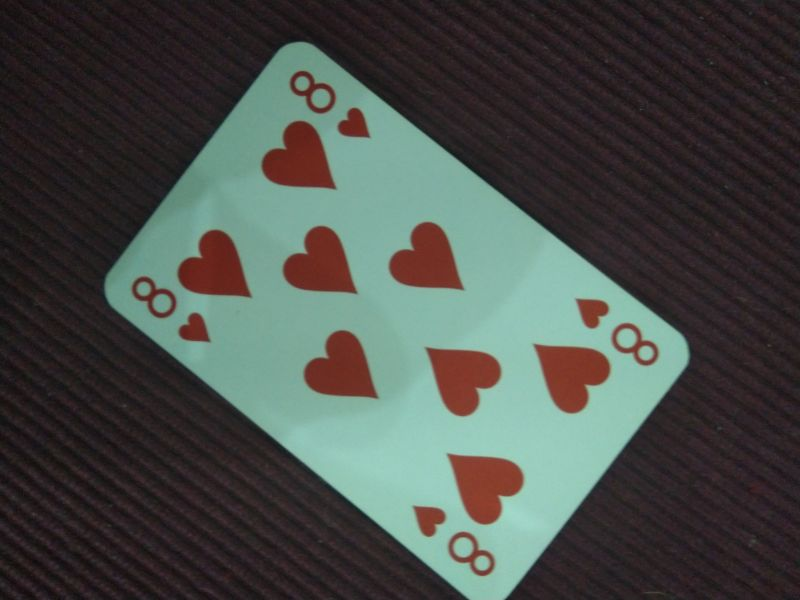8h: (286, 63, 376, 144), (571, 293, 664, 371), (408, 503, 500, 576), (128, 272, 215, 347)
